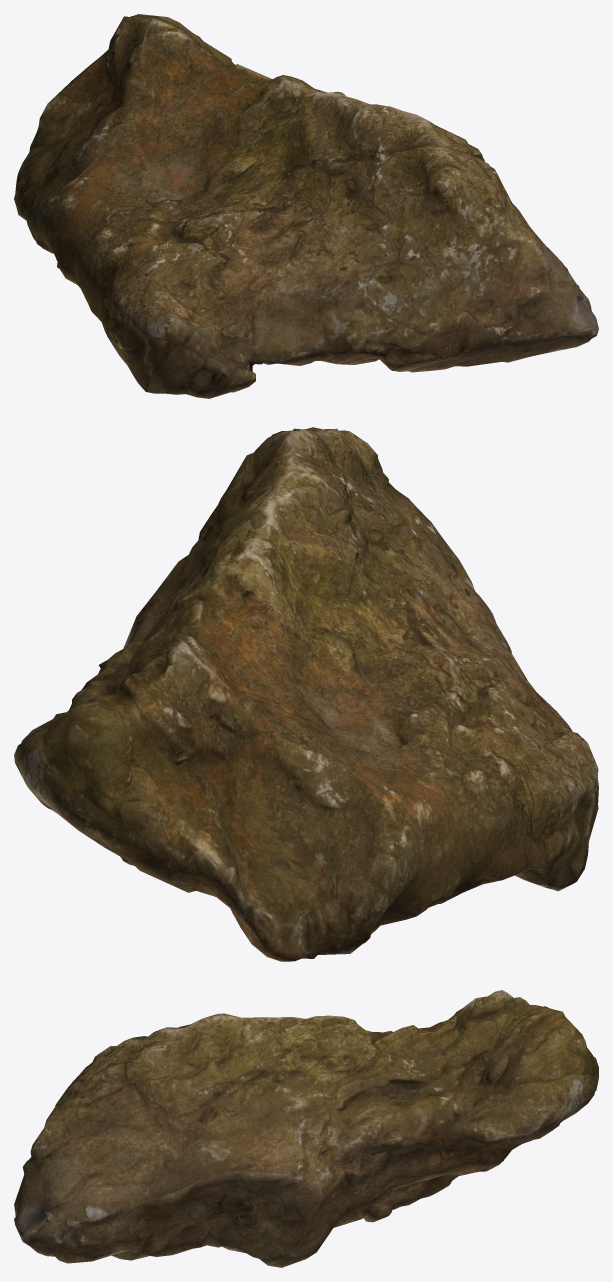
Rendered from rock_moss_01_r01.glb.
The picture shows the model from 3 angles, top to bottom: view 1: azimuth 30°, elevation 25°; view 2: azimuth 150°, elevation 25°; view 3: azimuth 270°, elevation 25°; orthographic projection. The views are drawn at different scales.
Parts seen in each view (by area): view 1: rock_moss_01_r01_LOD0; view 2: rock_moss_01_r01_LOD0; view 3: rock_moss_01_r01_LOD0.
Boxes of the visible parts, bbox=[...] form: rock_moss_01_r01_LOD0: bbox=[14, 14, 598, 398]; rock_moss_01_r01_LOD0: bbox=[14, 427, 598, 961]; rock_moss_01_r01_LOD0: bbox=[14, 990, 598, 1267].
Size of what is drawn, in the model's own units: 2.24 by 1.47 by 3.36.
Materials: 1 (1 with a texture image).
